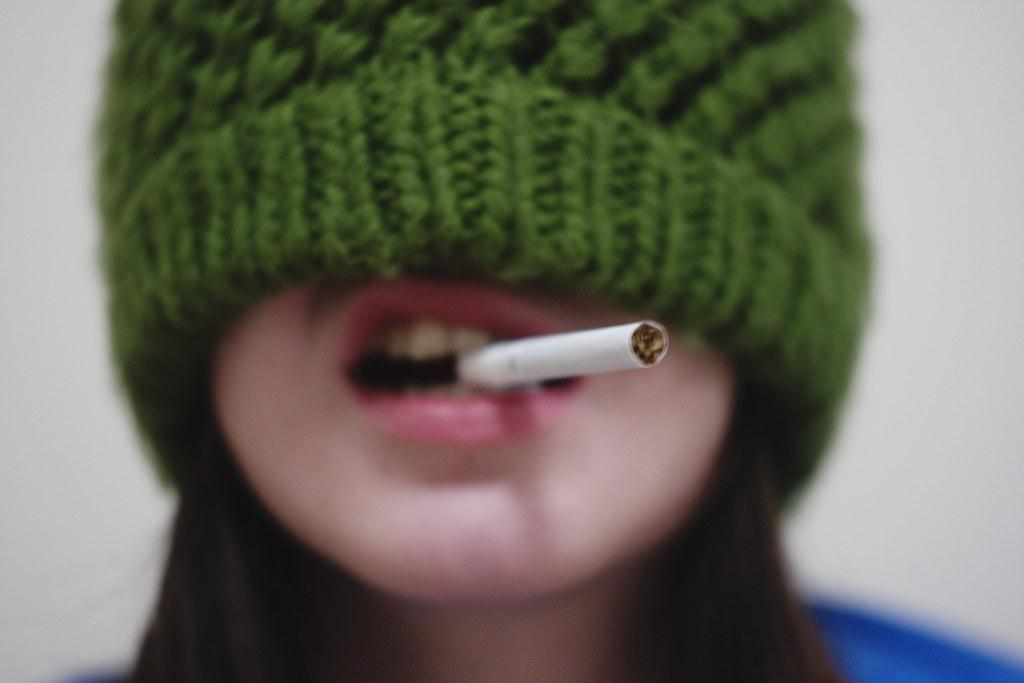cigarette: (455, 314, 677, 399)
